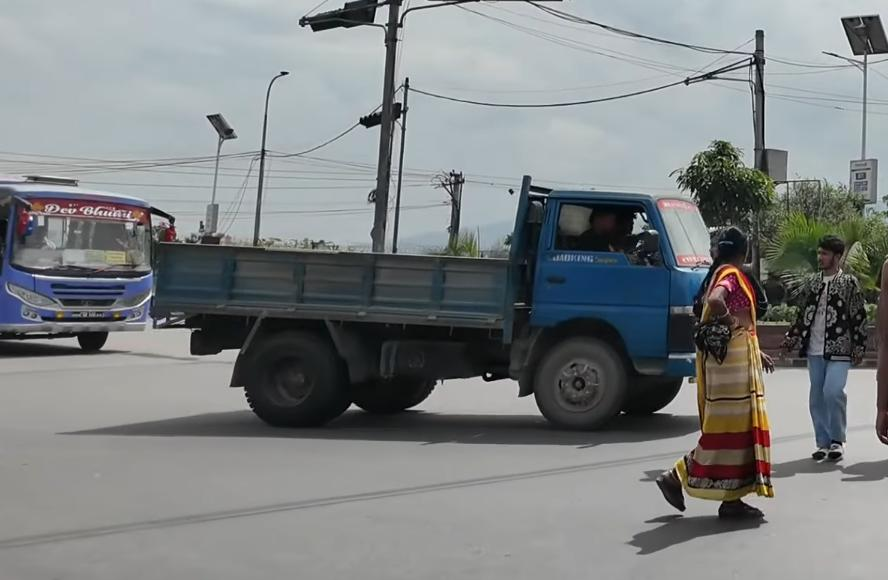bus: (0, 154, 179, 375)
mini_truck: (134, 178, 737, 438)
